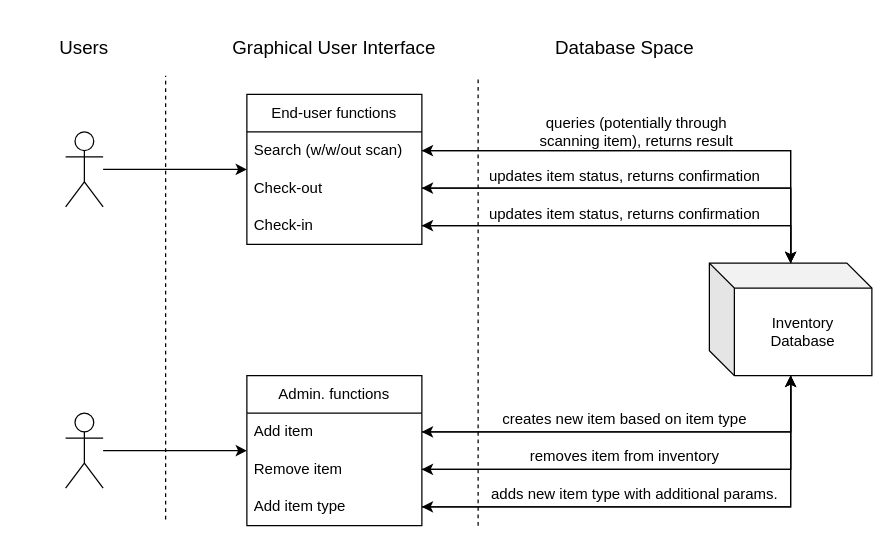
Some shapes in this 894 by 554 pixel diagram are drawn without their labels. Here are the shapes that lost their labels. From the top down, the centre of each, then its label:
At point (83, 169): "End User".
At point (83, 450): "Database Administrator".
